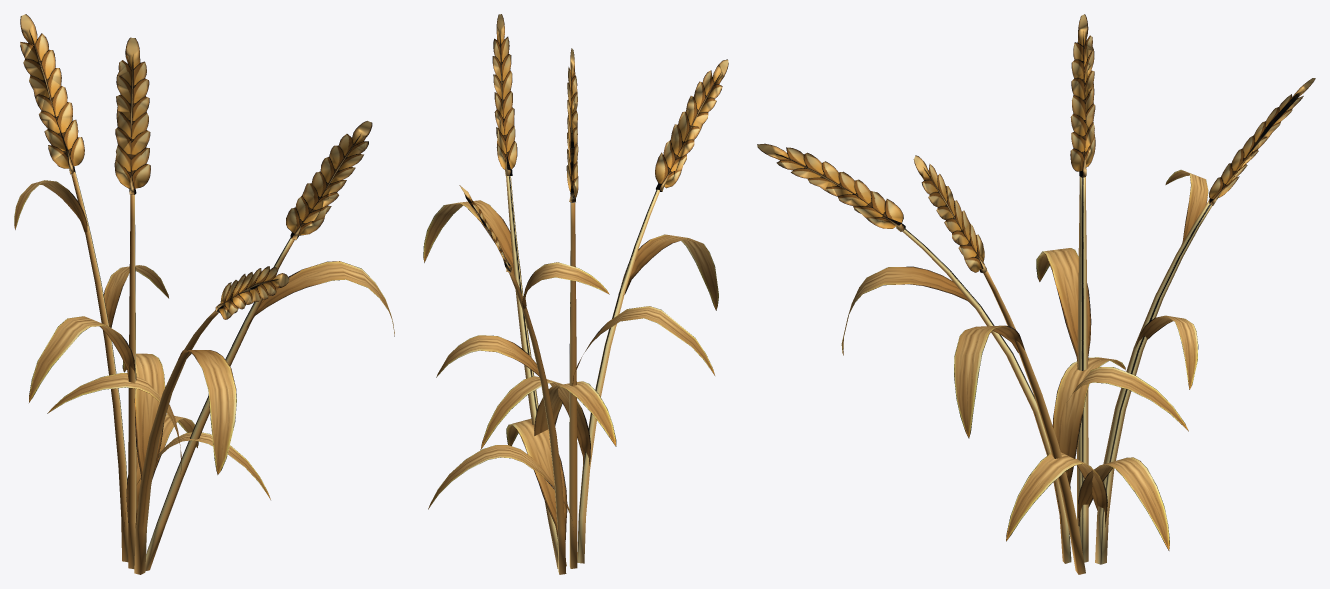
Rendered from Wheat_Plant.fbx.
The picture shows the model from 3 angles, left to right: view 1: azimuth 30°, elevation 25°; view 2: azimuth 150°, elevation 25°; view 3: azimuth 270°, elevation 25°; orthographic projection. The views are drawn at different scales.
Parts seen in each view (by area): view 1: Wheat_Plant; view 2: Wheat_Plant; view 3: Wheat_Plant.
Boxes of the visible parts, x1=… form: Wheat_Plant: x1=14, y1=14, x2=394, y2=574; Wheat_Plant: x1=423, y1=14, x2=728, y2=574; Wheat_Plant: x1=757, y1=14, x2=1315, y2=574.
Bounding box in the file's own units: 1653 × 2545 × 2333.
